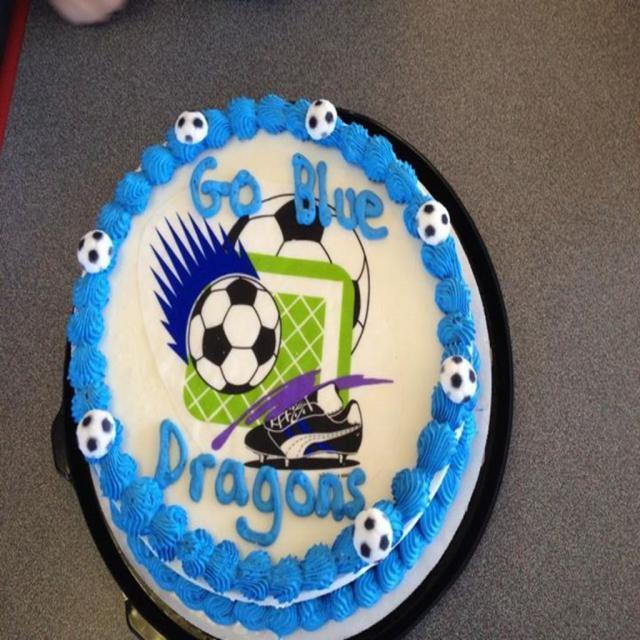ball: (187, 272, 281, 394)
